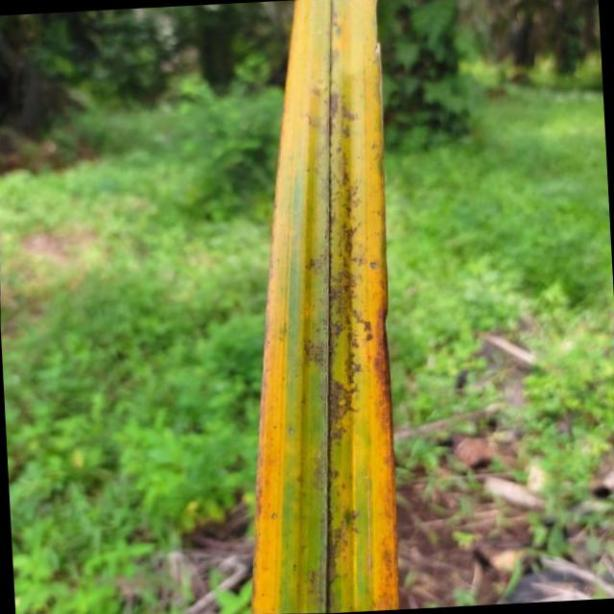Megnesium: (248, 0, 398, 614)
